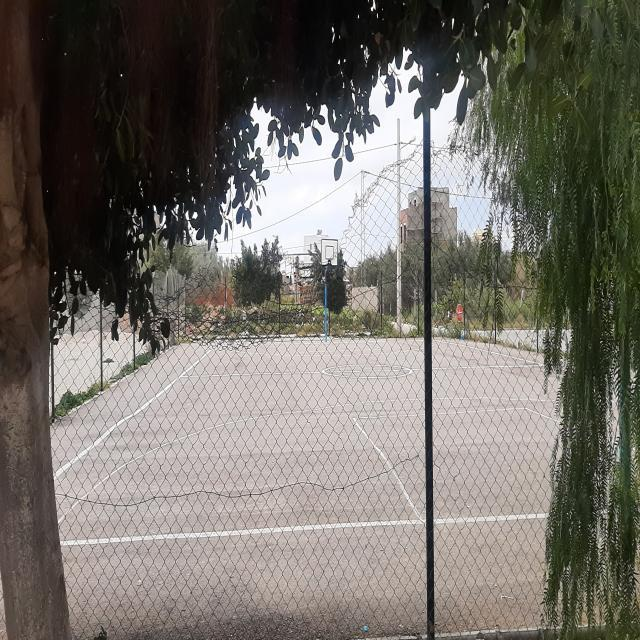fence line: (75, 186, 370, 300)
